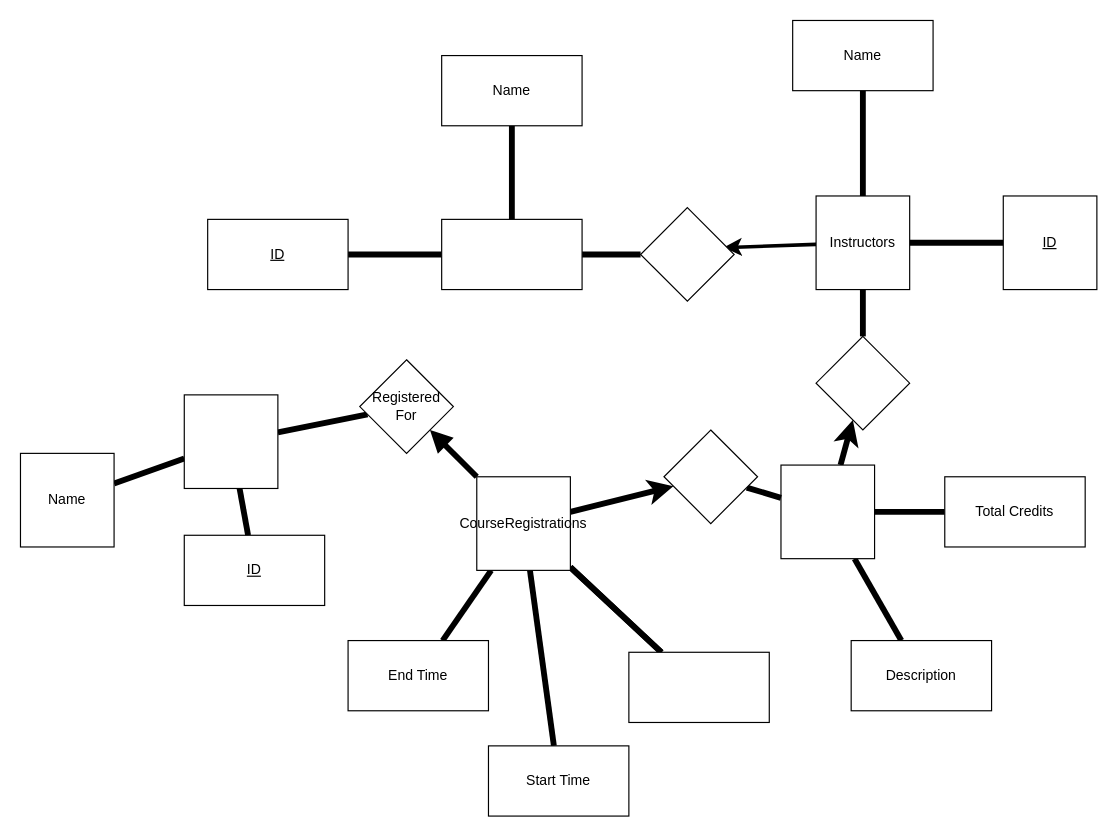
Image size: 1117x837. Some labels were removed from this diagram. The box of each missing label's shape, as (x1, y1, x2, y2) in pixels:
Belongs to: (663, 429, 758, 524)
Courses: (780, 464, 875, 559)
Departments: (441, 218, 582, 290)
Has: (639, 207, 734, 301)
Students: (183, 394, 278, 488)
Taught by: (815, 335, 910, 430)
Year: (628, 651, 769, 722)
